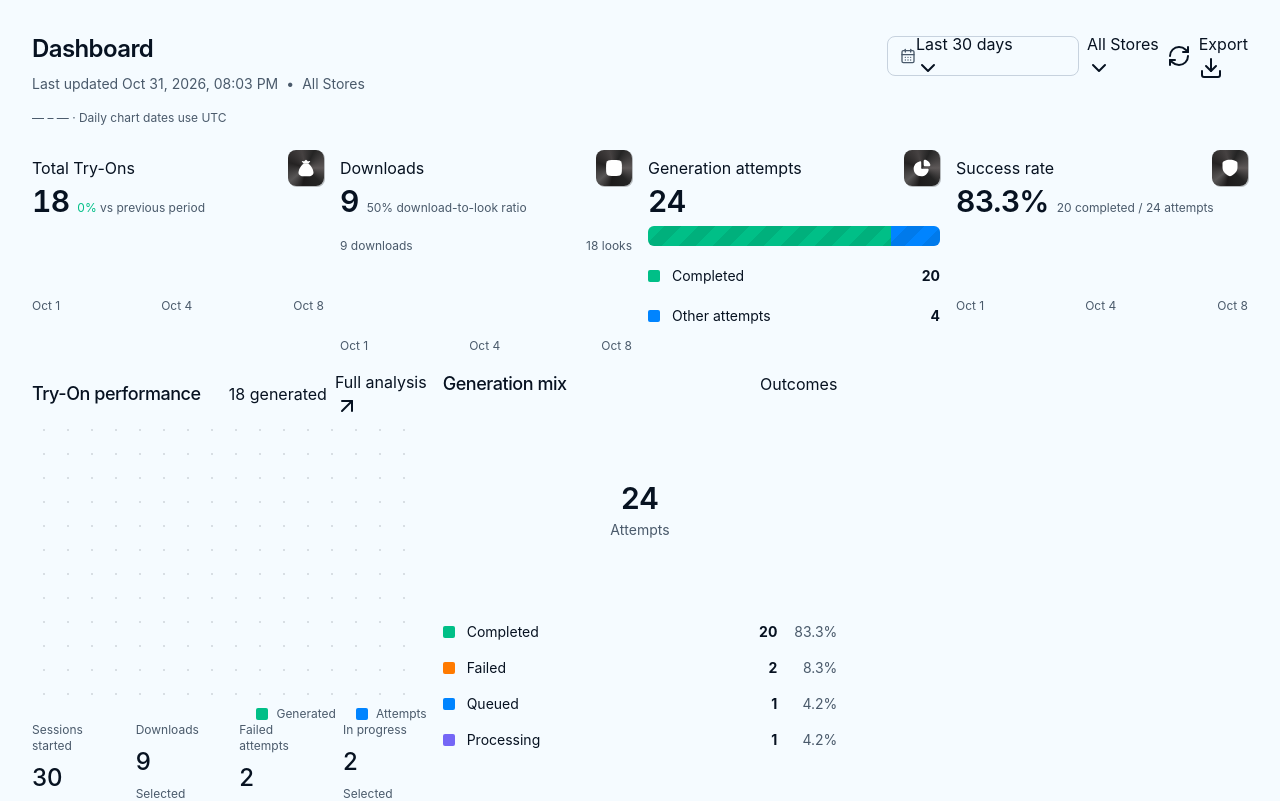
it: Capitalio SelfX dashboard › keeps Store metrics empty on a failed global refresh
Step 1. Click the button named "Refresh dashboard" → (1179, 56), box [1167, 44, 1191, 68]
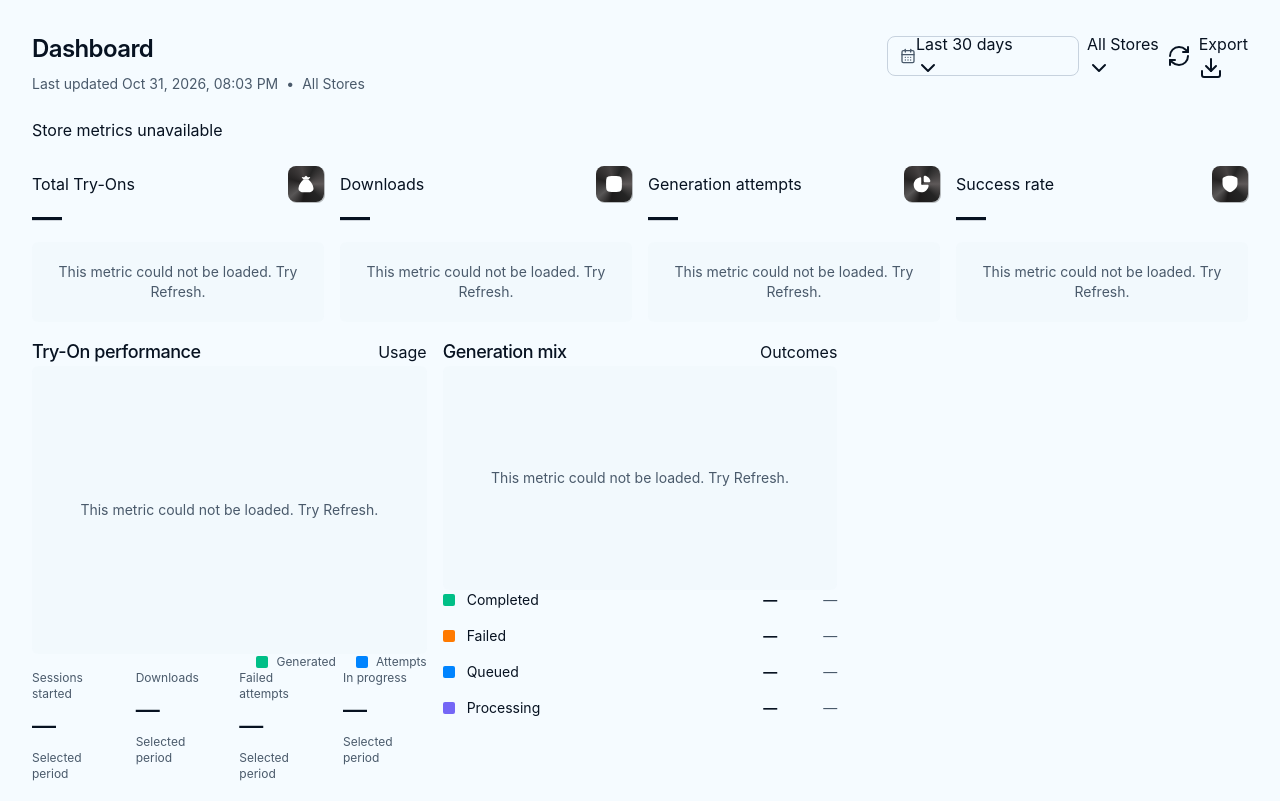
Expected: the button "Export" is disabled, [1199, 32, 1248, 80]
Result: the message "Store metrics unavailable" is shown at [32, 120, 222, 140]
